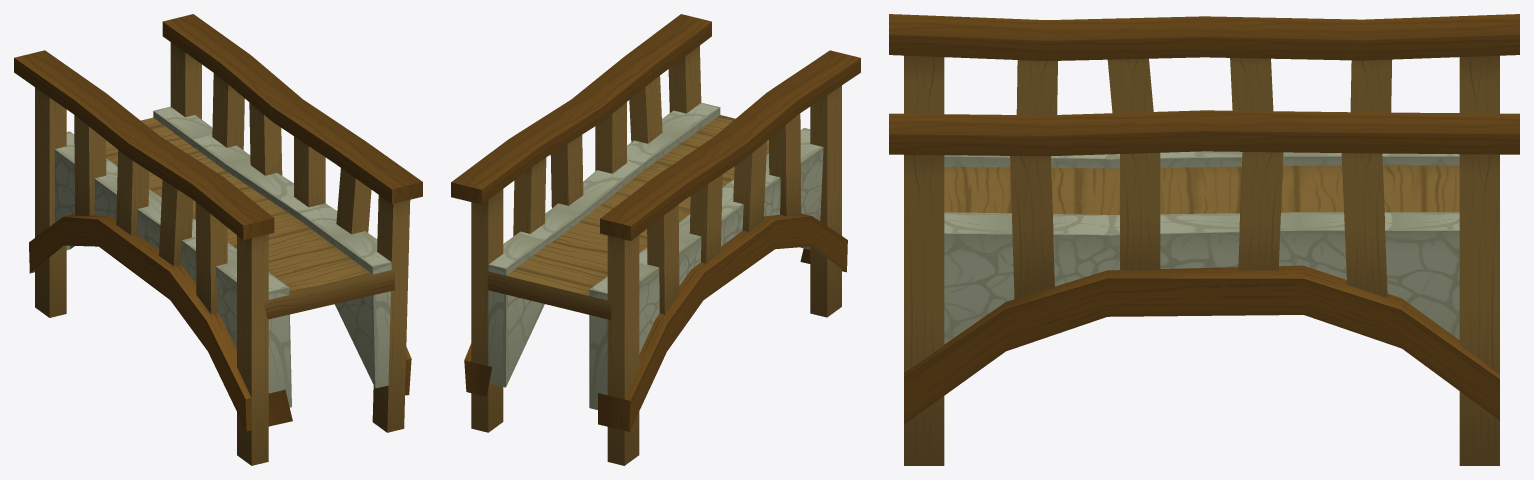
Rendered from bridge.FBX.
The picture shows the model from 3 angles, left to right: view 1: azimuth 30°, elevation 25°; view 2: azimuth 150°, elevation 25°; view 3: azimuth 270°, elevation 25°; orthographic projection. The views are drawn at different scales.
Parts seen in each view (by area): view 1: Pont; view 2: Pont; view 3: Pont.
Boxes of the visible parts, bbox=[...] form: Pont: bbox=[14, 14, 422, 465]; Pont: bbox=[451, 14, 860, 465]; Pont: bbox=[889, 14, 1519, 465].
Bounding box in the file's own units: 21.17 × 28.04 × 46.89.
